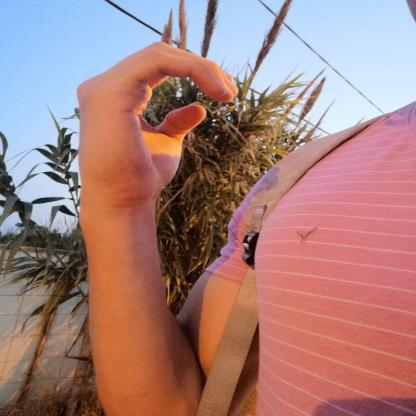JEEM: (59, 31, 254, 217)
